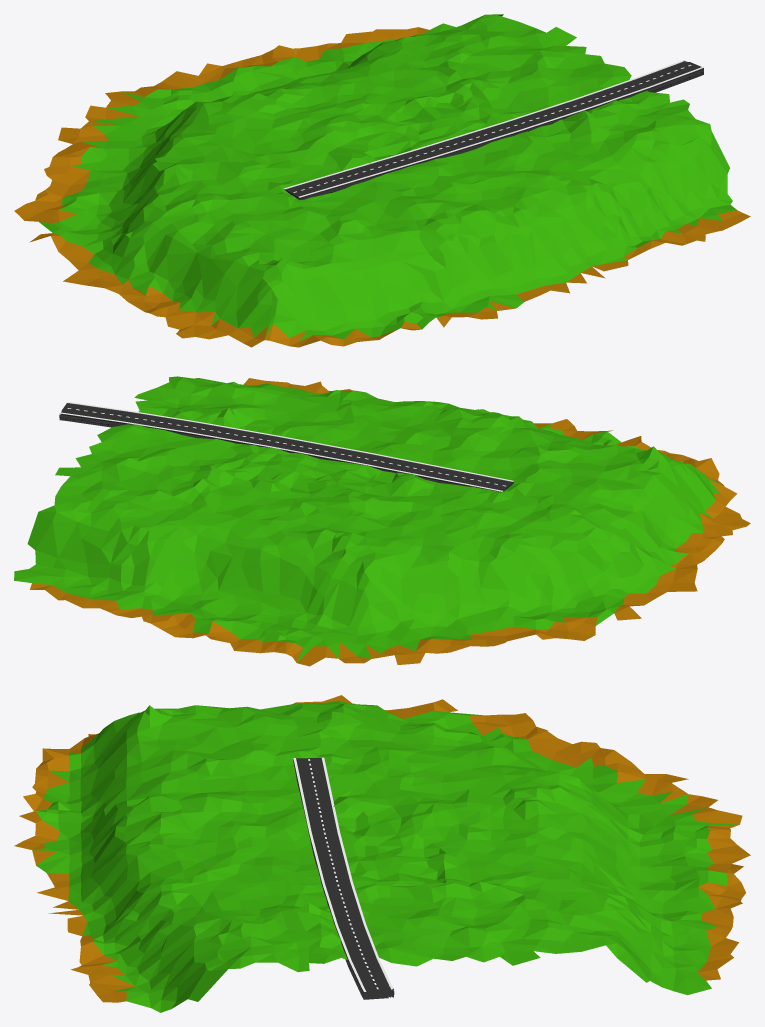
Rendered from LoadSaveBase.glb.
3 views of the same model, one above another, from view 1: azimuth 30°, elevation 25°; view 2: azimuth 150°, elevation 25°; view 3: azimuth 270°, elevation 25° (orthographic). The views are drawn at different scales.
Visible parts, largest first — view 1: ForCamLoadPlate, RoadForLoad; view 2: ForCamLoadPlate, RoadForLoad; view 3: ForCamLoadPlate, RoadForLoad.
Part boxes in pixels (box(x1,y1,x2,y2)): ForCamLoadPlate: box(14, 14, 750, 347); RoadForLoad: box(283, 60, 703, 199); ForCamLoadPlate: box(14, 376, 750, 666); RoadForLoad: box(59, 402, 513, 491); ForCamLoadPlate: box(14, 695, 750, 1012); RoadForLoad: box(293, 757, 394, 999).
Size of the model in its own units: 70.96 by 6.34 by 63.29.
